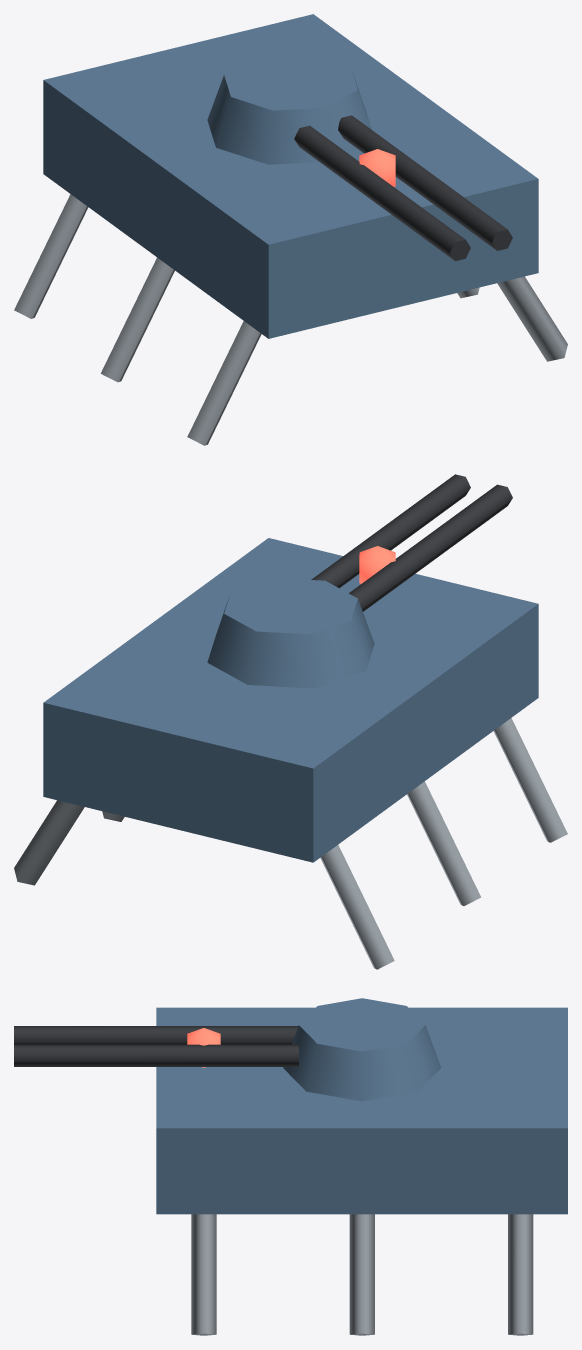
Rendered from unit_mil_ground_drone_a09.glb.
The picture shows the model from 3 angles, top to bottom: view 1: azimuth 30°, elevation 25°; view 2: azimuth 150°, elevation 25°; view 3: azimuth 270°, elevation 25°; orthographic projection. The views are drawn at different scales.
Visible parts, largest first — view 1: body, turret; view 2: body, turret; view 3: body, turret.
Part boxes in pixels (left/top/right/bottom): body: left=14, top=14, right=567, bottom=445; turret: left=207, top=54, right=512, bottom=261; body: left=14, top=538, right=567, bottom=969; turret: left=207, top=474, right=512, bottom=688; body: left=156, top=1007, right=567, bottom=1335; turret: left=14, top=998, right=441, bottom=1101.
Size of what is drawn, in the model's own units: 1.27 by 0.82 by 1.75.
